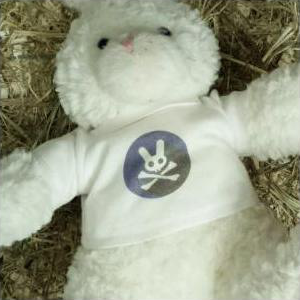bunny: (122, 130, 192, 198)
